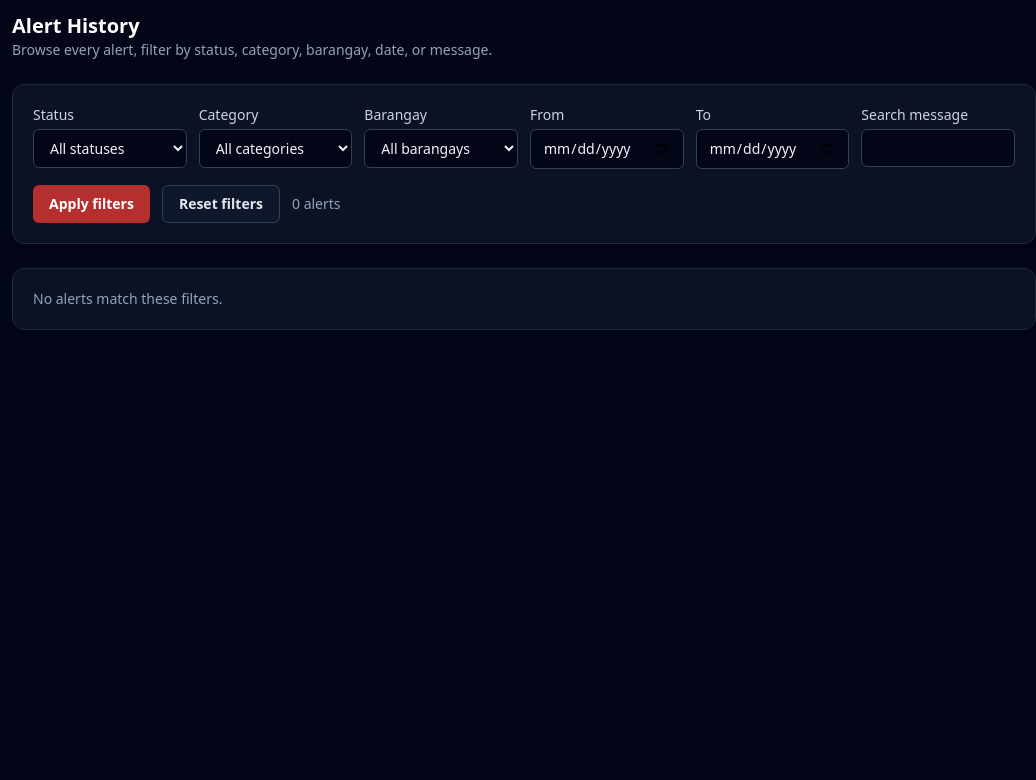
Test: Alert history page › shows total and empty states and can reset filters
Check: the text "No alerts match these filters." is shown, box [33, 289, 222, 308]
Click the button "Reset filters" at [221, 204], box [162, 185, 280, 223]
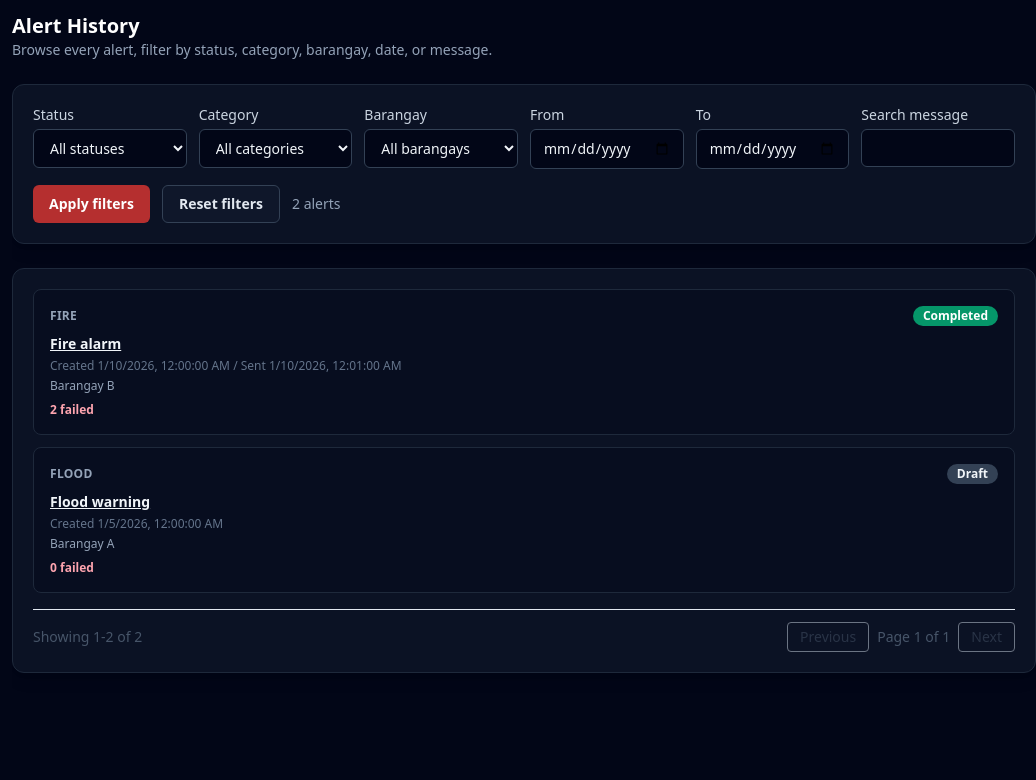
Check: the link "Fire alarm" is shown, box [50, 334, 121, 353]
